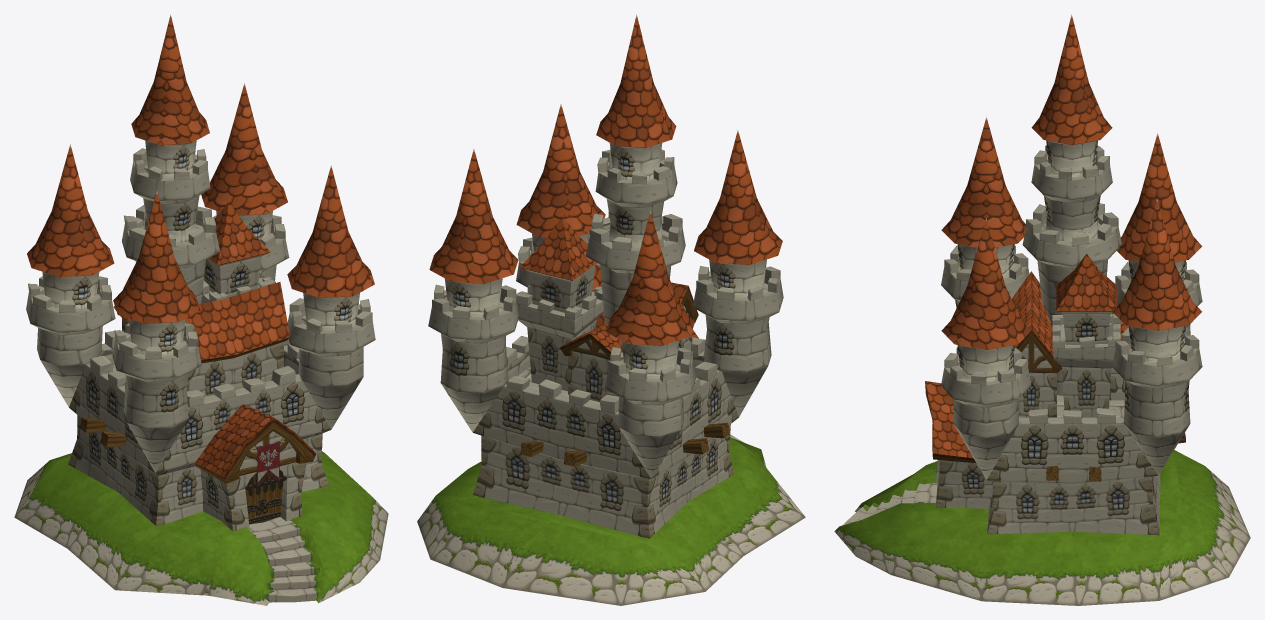
The model's file is castle.FBX.
The picture shows the model from 3 angles, left to right: view 1: azimuth 30°, elevation 25°; view 2: azimuth 150°, elevation 25°; view 3: azimuth 270°, elevation 25°; orthographic projection. The views are drawn at different scales.
Visible parts, largest first — view 1: Castle, castle_base; view 2: Castle, castle_base; view 3: Castle, castle_base.
Boxes of the visible parts, x1,y1,x2,y2 form: Castle: (26, 14, 375, 531); castle_base: (14, 451, 388, 605); Castle: (428, 14, 783, 538); castle_base: (417, 434, 805, 605); Castle: (925, 14, 1202, 535); castle_base: (834, 450, 1250, 605).
Size of the model in its own units: 127 by 210 by 157.
